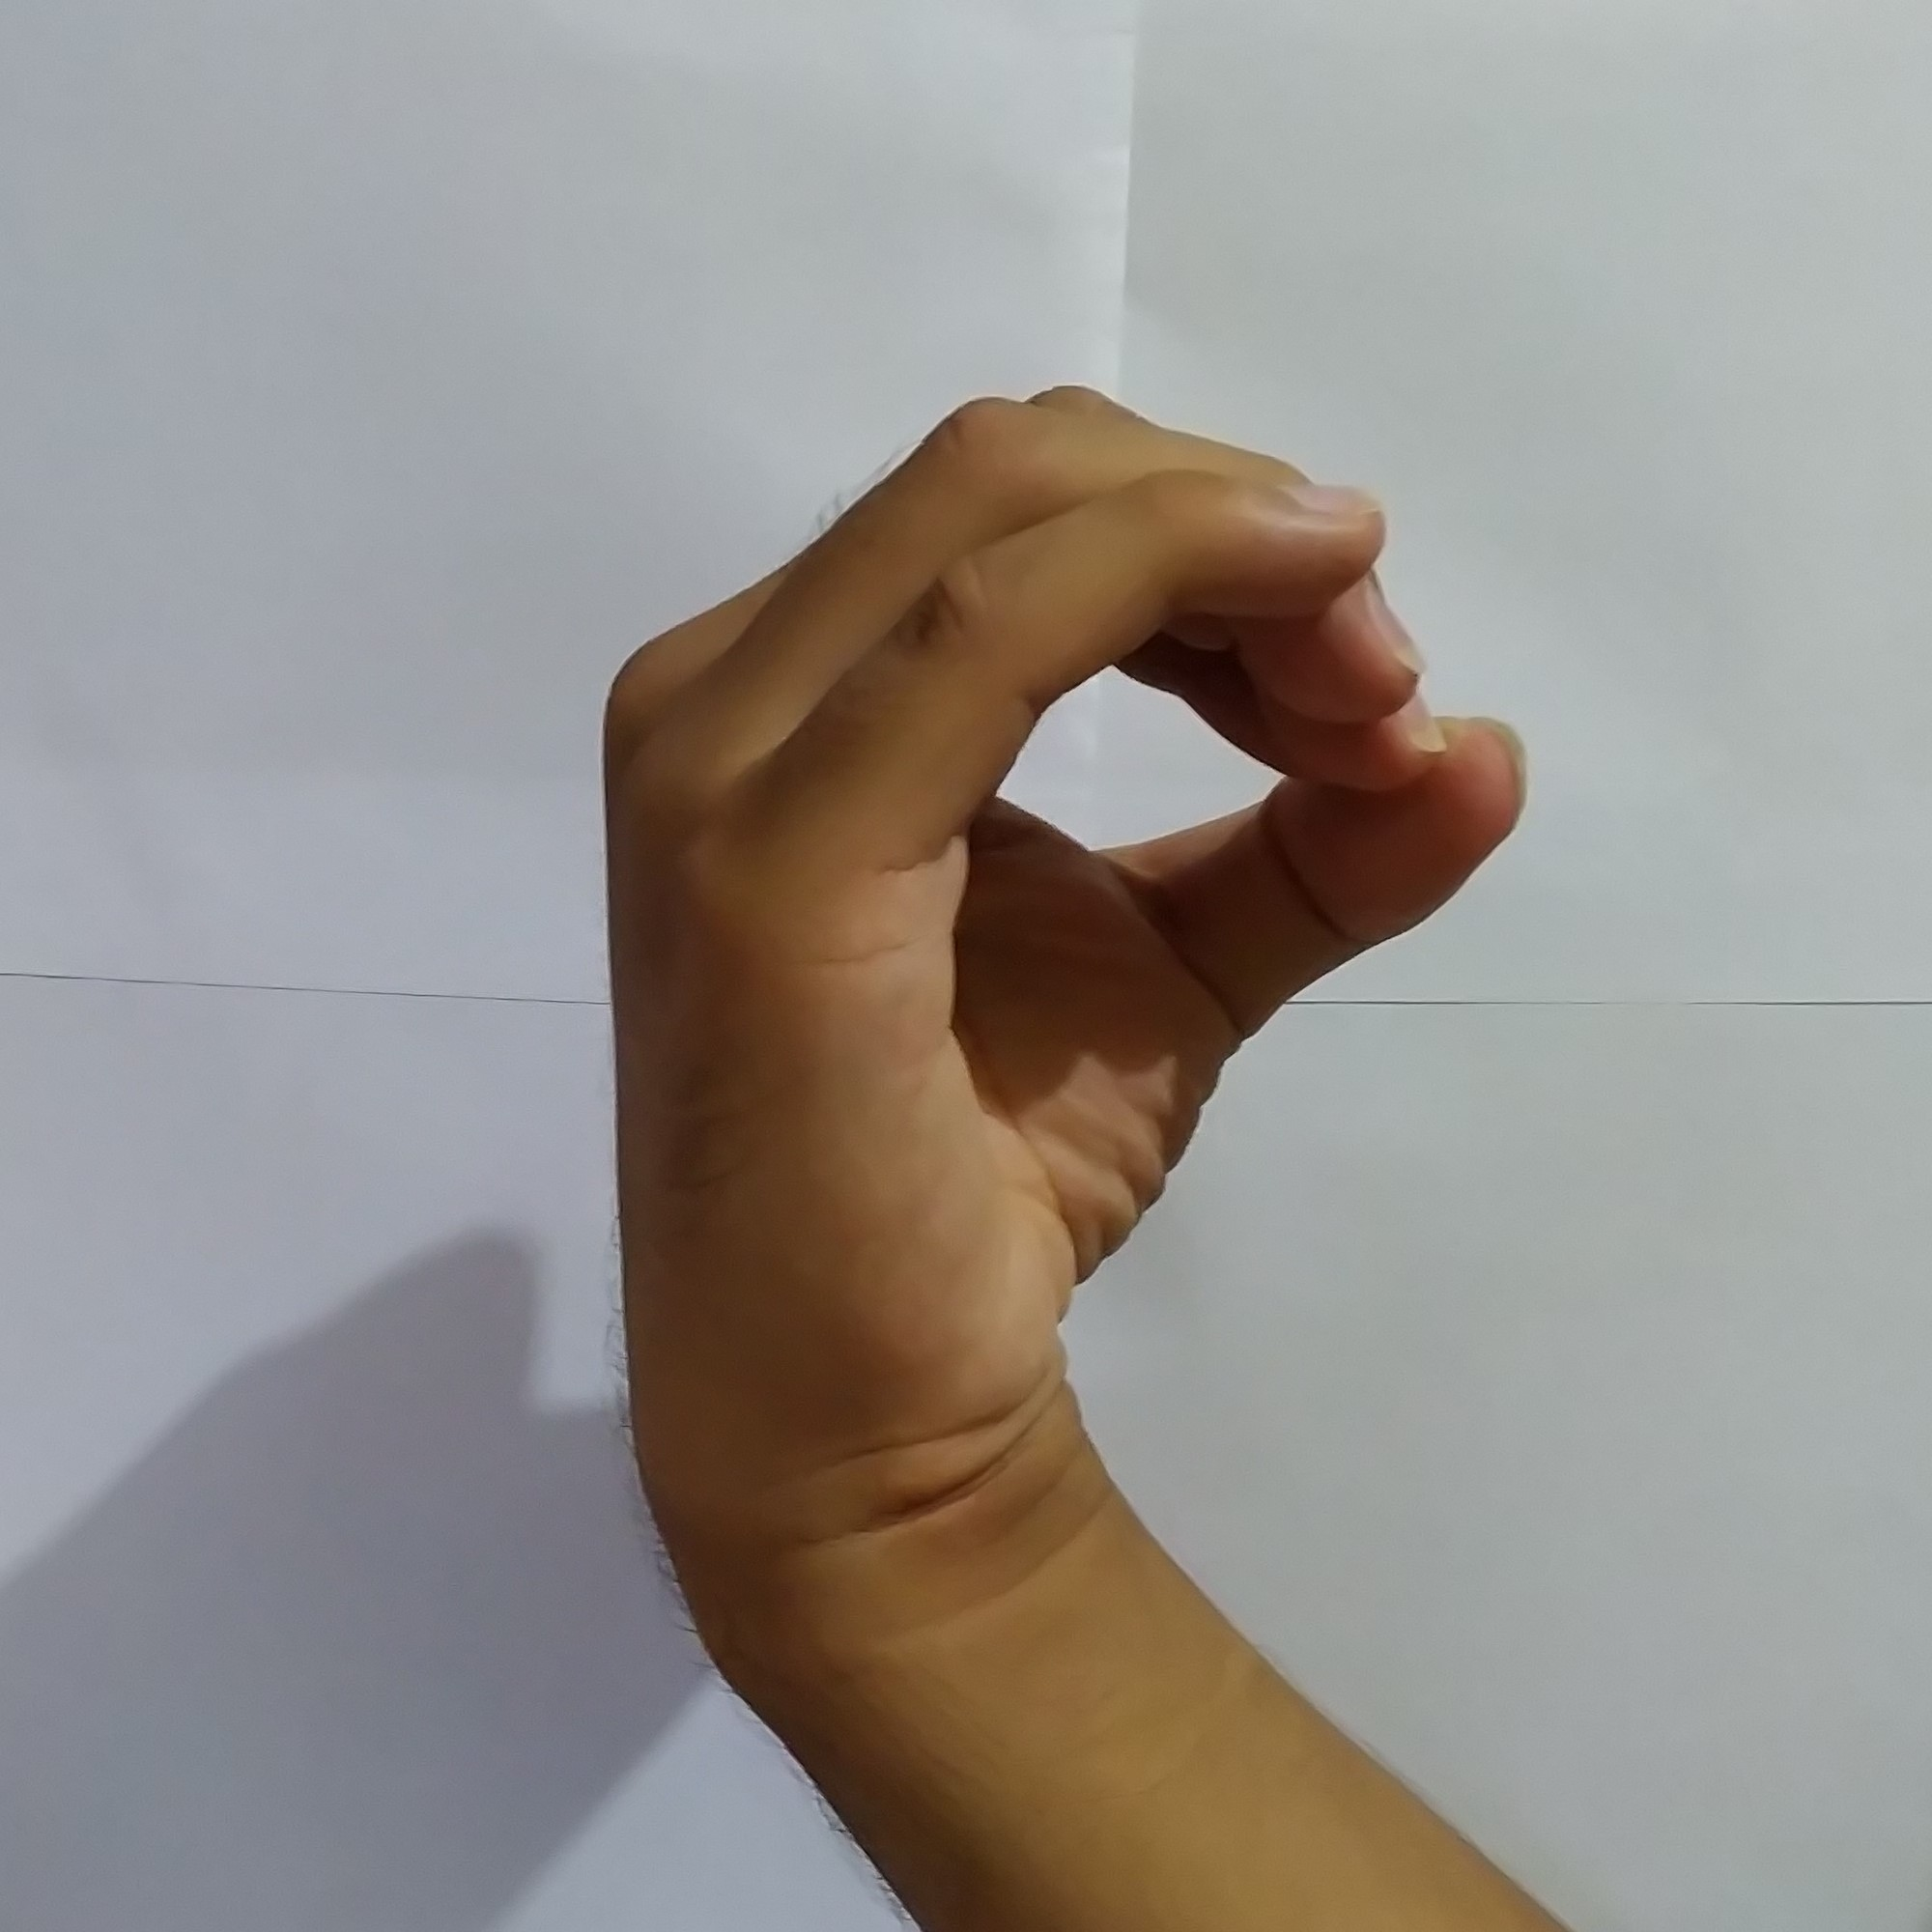O: (564, 366, 1552, 1456)
